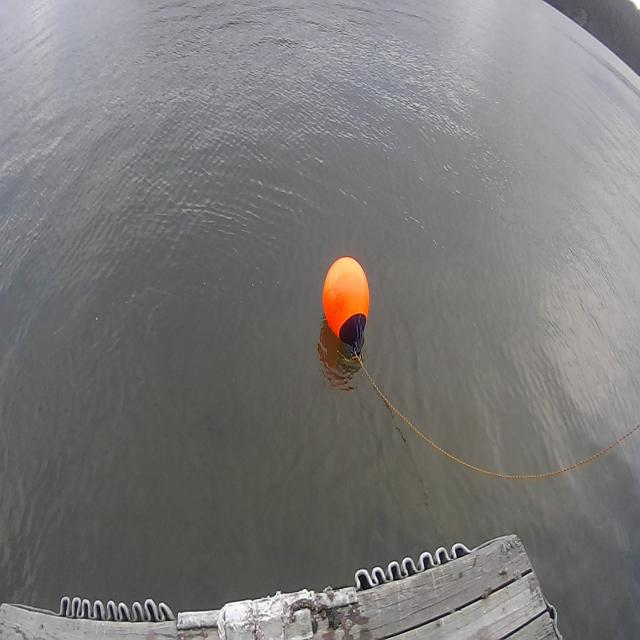Buoy: (320, 252, 374, 364)
